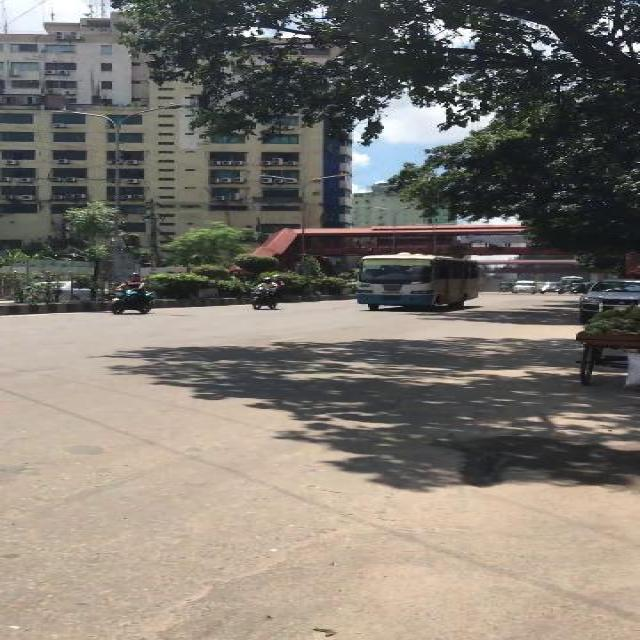bus: (356, 250, 478, 309)
motorcycle: (107, 270, 153, 313), (246, 274, 284, 310)
truck: (574, 276, 636, 323), (512, 278, 537, 293)
